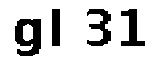1: (119, 6, 147, 49)
3: (81, 4, 114, 52)
g: (11, 16, 45, 60)
l: (48, 2, 70, 50)
